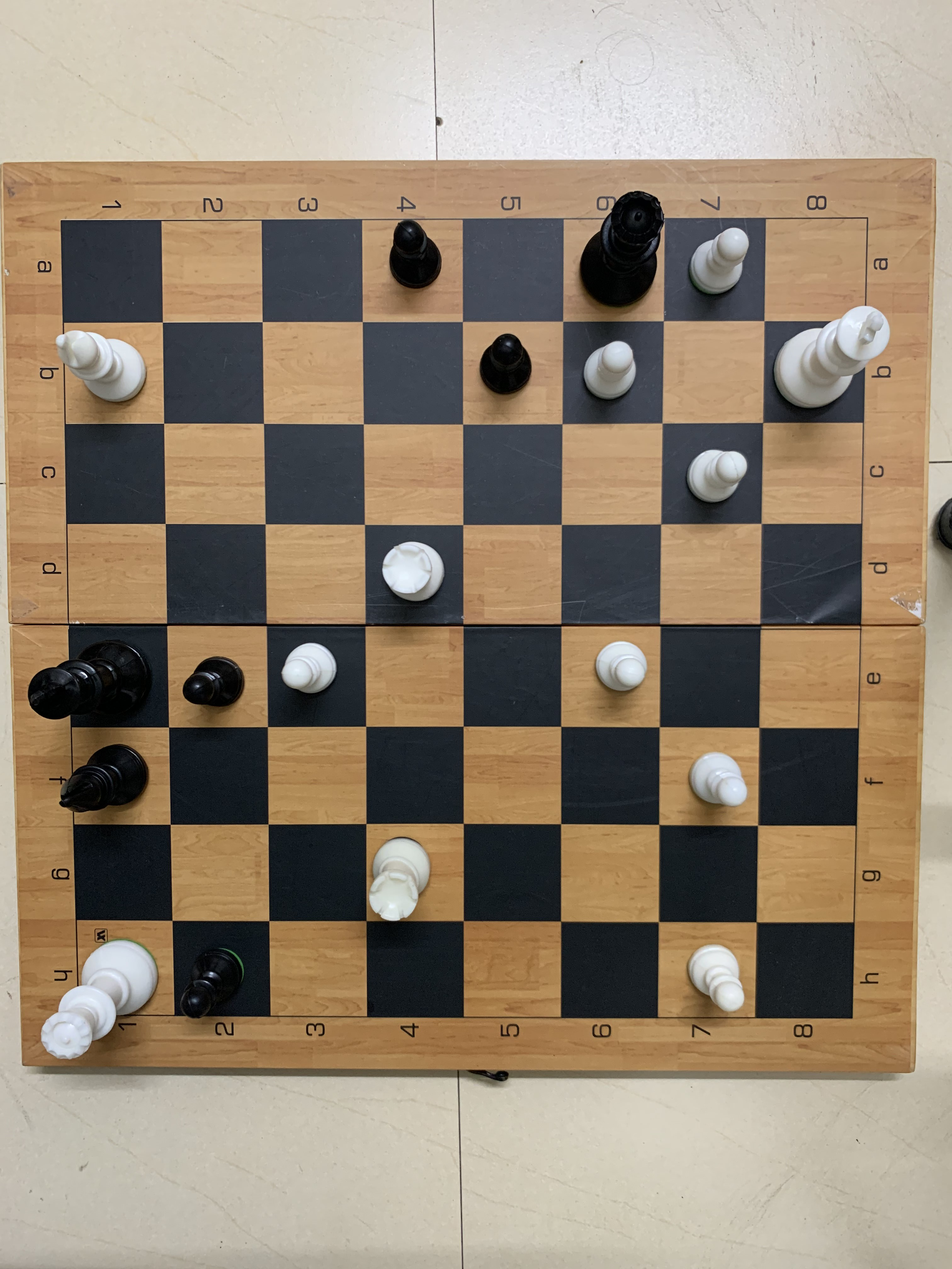black_bishop: (51, 741, 172, 820)
black_king: (21, 635, 155, 731)
black_pawn: (173, 939, 251, 1031), (176, 645, 247, 725), (467, 329, 535, 403), (385, 213, 446, 290)
black_queen: (577, 182, 665, 317)
white_bishop: (51, 315, 150, 421)
white_king: (764, 304, 888, 419)
white_pawn: (684, 226, 760, 305), (678, 932, 749, 1015), (581, 628, 651, 708), (686, 745, 752, 826), (570, 330, 641, 404), (682, 440, 752, 513), (278, 630, 350, 700)
white_queen: (34, 925, 164, 1064)
white_rook: (350, 829, 433, 927), (375, 532, 454, 611)
